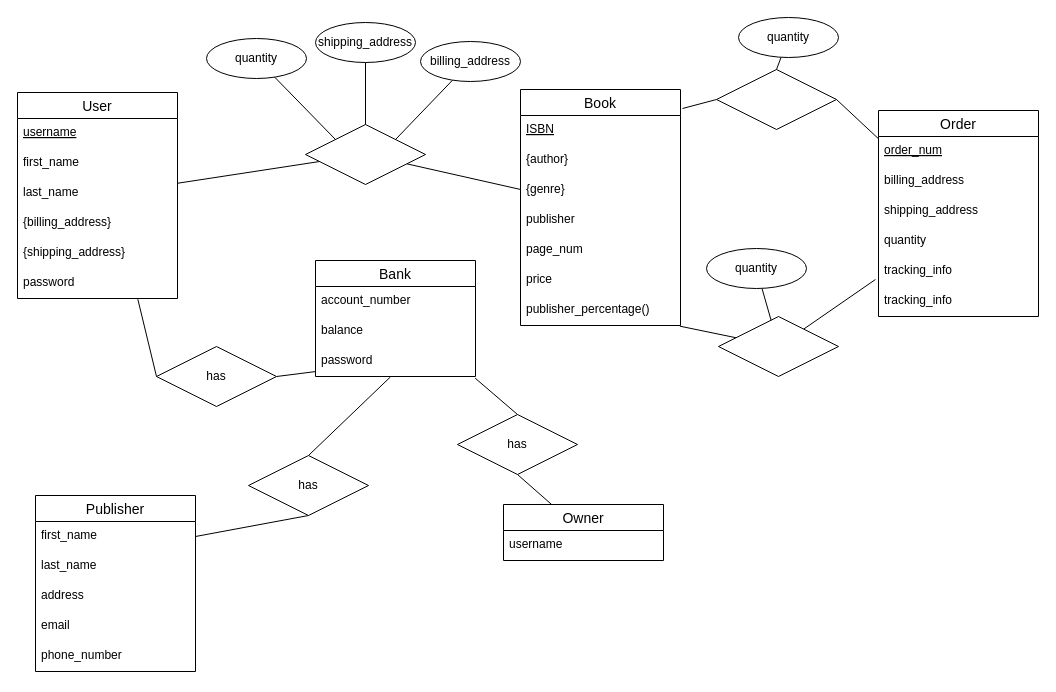
This 1056x692 diagram has some shape labels left out. The centre of each missing label's shape, as x and y in pixels:
Checkout: pixel 365 154
Collection: pixel 778 346
reports: pixel 776 99
